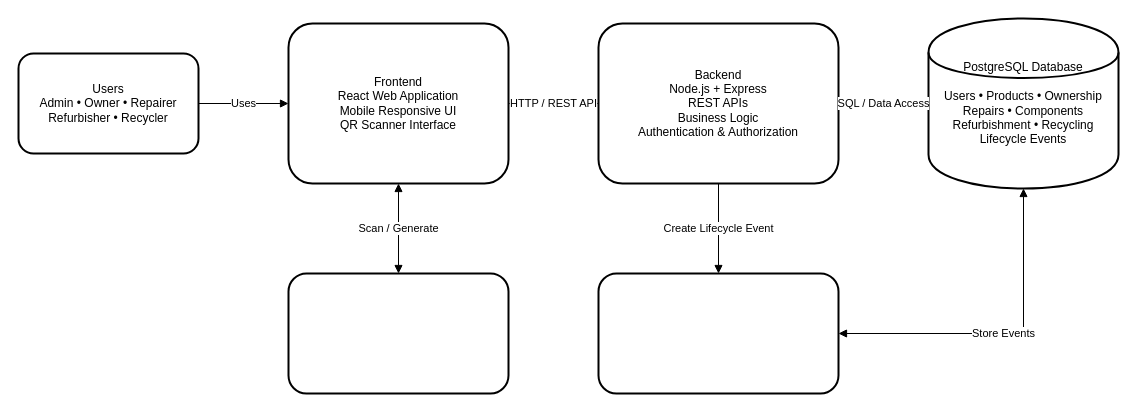
This 1136x411 diagram has some shape labels left out. Here are the shapes that lost their labels. From the top down, the box of each, then its label:
(287, 272, 509, 394): QR Code Service Generate Product QR Scan QR & Identify Product
(597, 272, 839, 394): Lifecycle / Audit Records Who • What • When Product Event History
